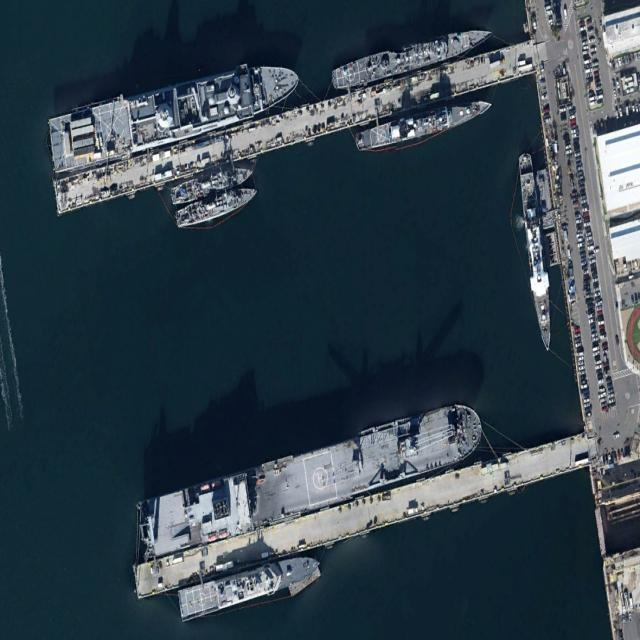Auxiliary Ships: (44, 48, 302, 174)
Frigate: (331, 16, 494, 92)
Other Ship: (134, 392, 487, 561), (177, 546, 323, 623), (353, 90, 494, 156), (516, 149, 555, 354), (173, 179, 259, 232), (168, 155, 254, 206)
